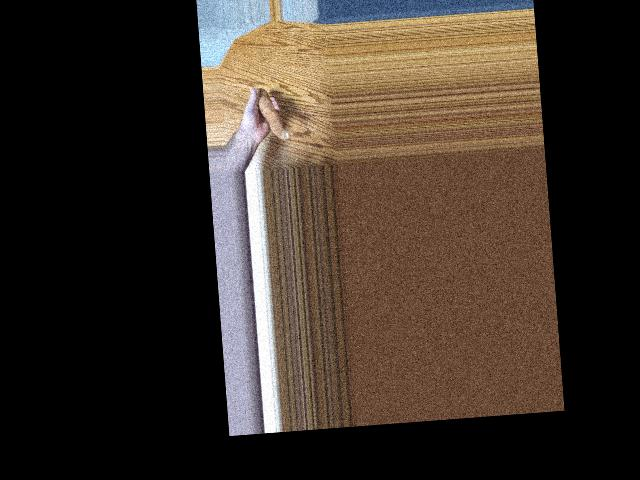sweet_potato: (256, 88, 289, 144)
